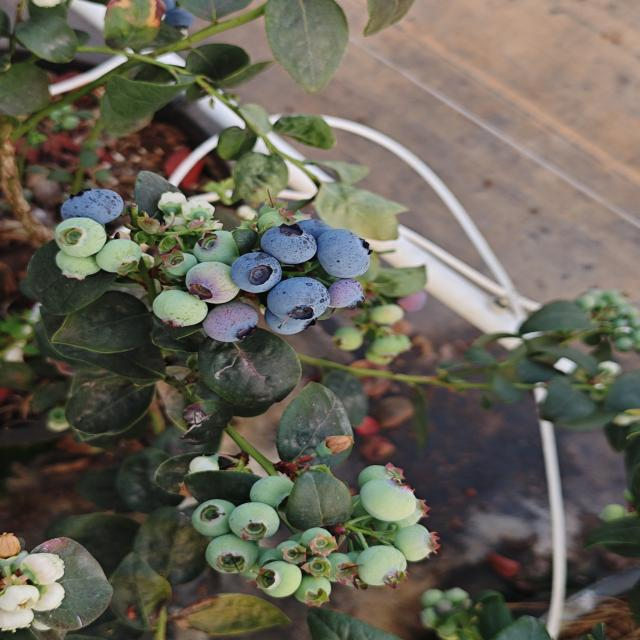ripe: (265, 275, 332, 326), (308, 268, 377, 312), (315, 228, 372, 280), (255, 221, 320, 266), (58, 187, 127, 226), (206, 306, 263, 346), (152, 0, 208, 40), (230, 243, 278, 289)
